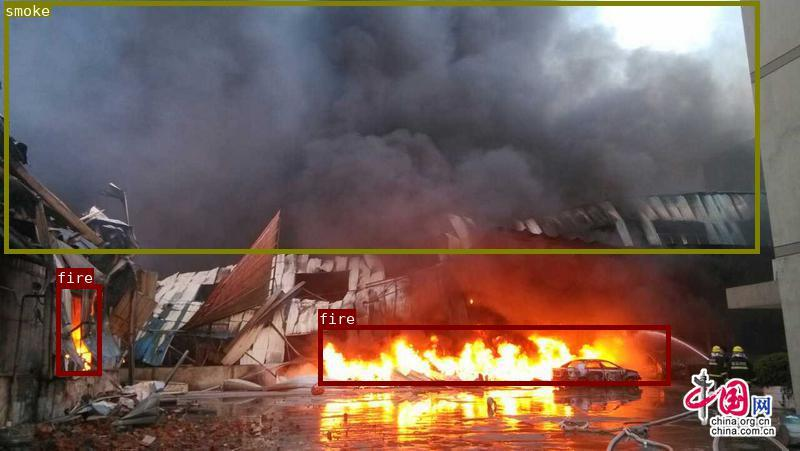fire: (318, 325, 670, 384), (55, 283, 101, 374)
smoke: (4, 1, 759, 252)
